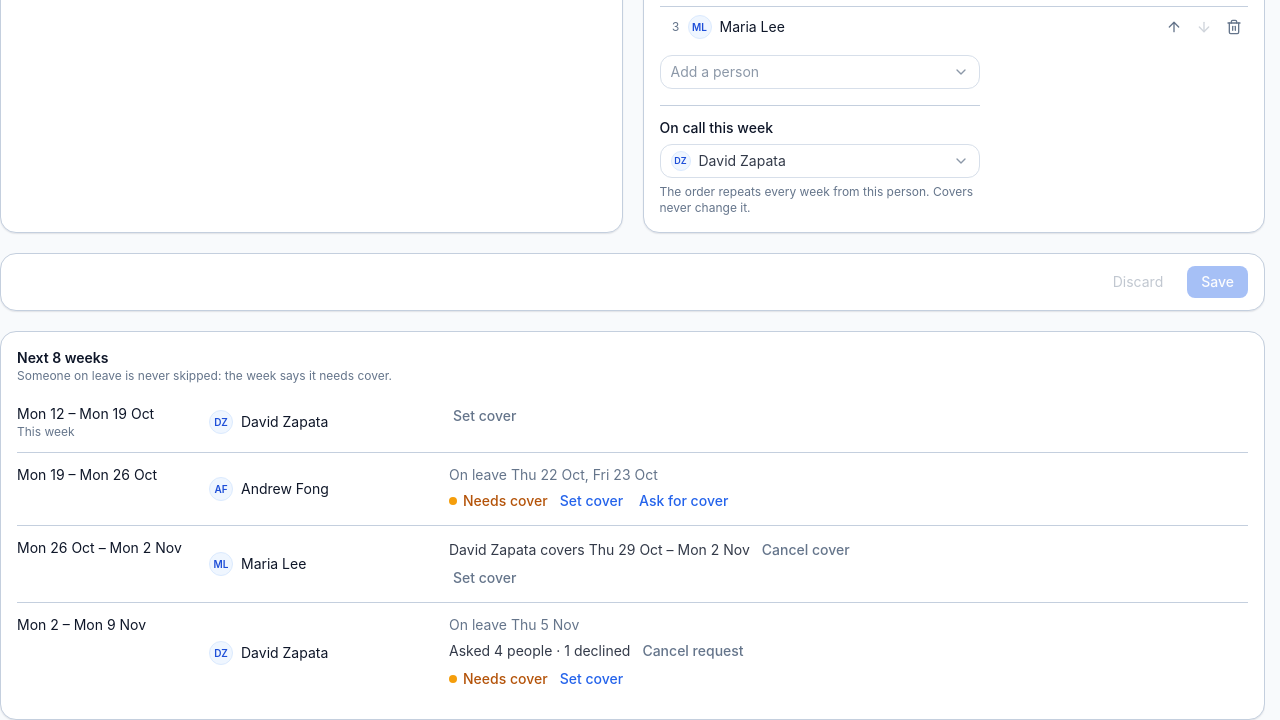
Test case: Urgent response: On-call › Set cover on a week with no leave starts with the whole week (the rest of it, once under way)
(page scrolled)
Click the button with aria-label "Set cover for Maria Lee": (485, 578) [449,566,520,590]
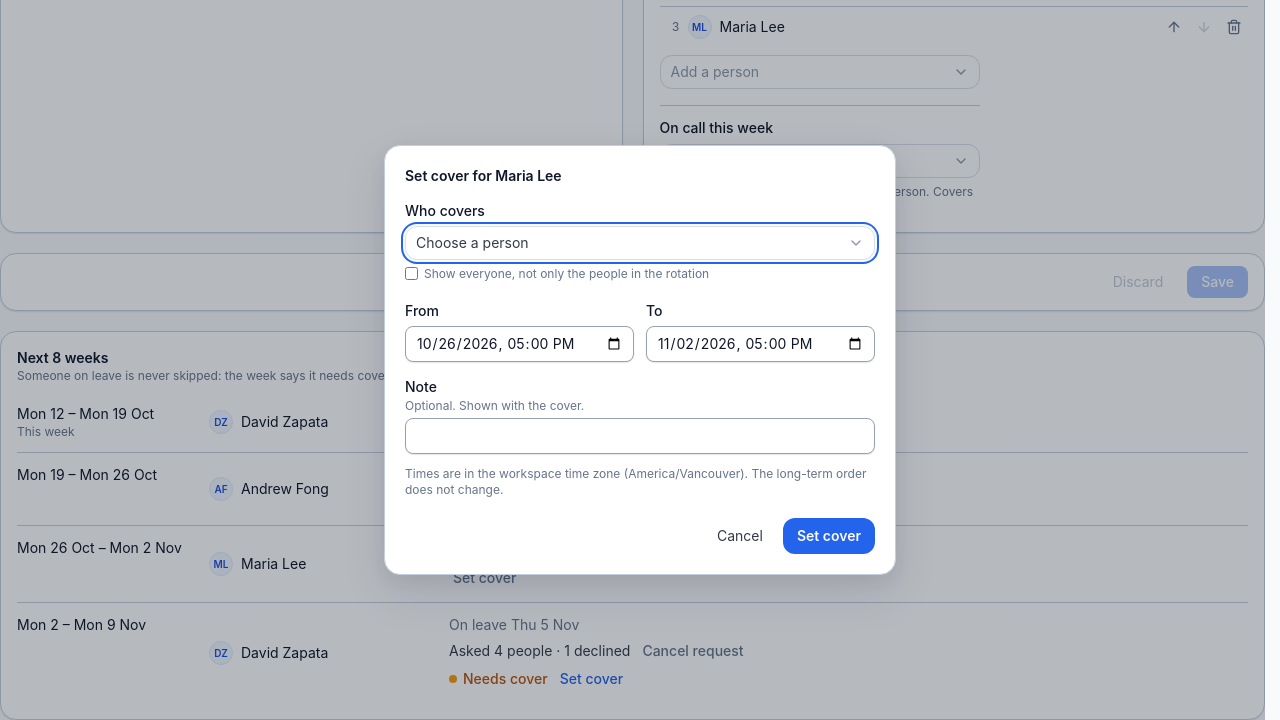
Expected: the field labelled "From" holds "2026-10-26T17:00", [405,326,634,362]
Expected: the field labelled "To" holds "2026-11-02T17:00", [646,326,875,362]
Click the button "Cancel": (740, 536) [705,518,775,554]
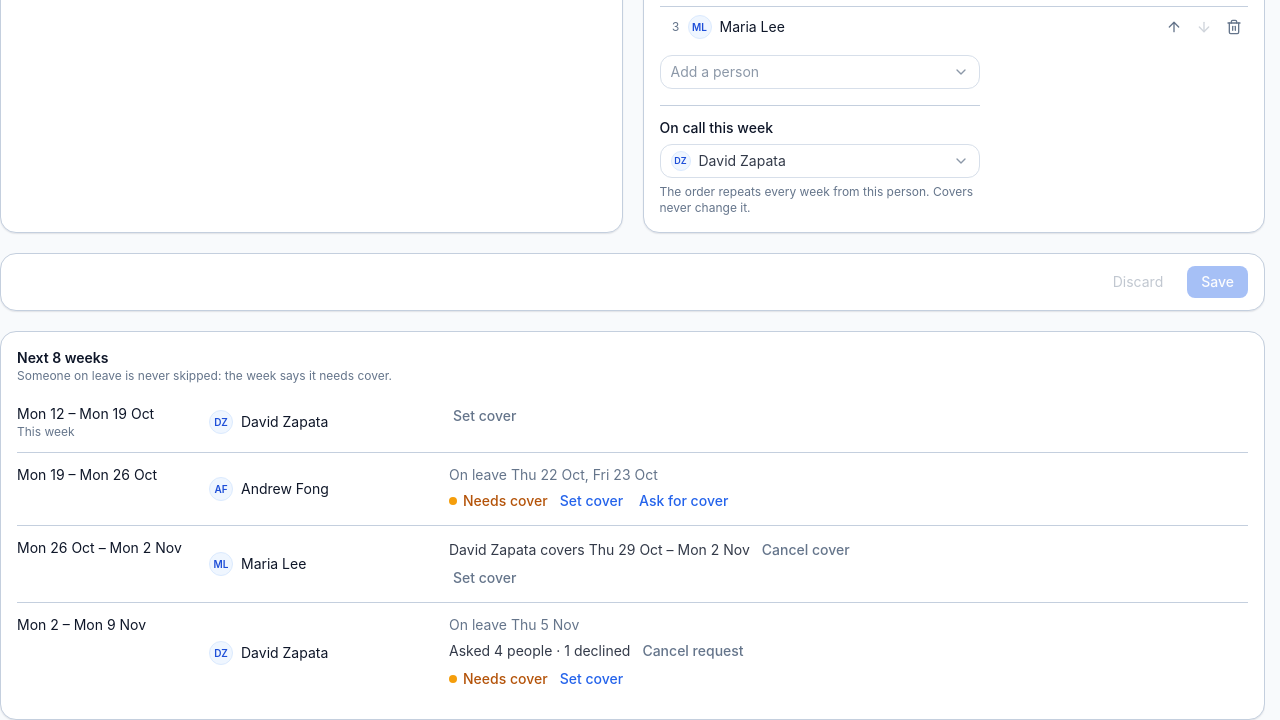
Click the button with aria-label "Set cover for David Zapata": (485, 416) [449,404,520,428]
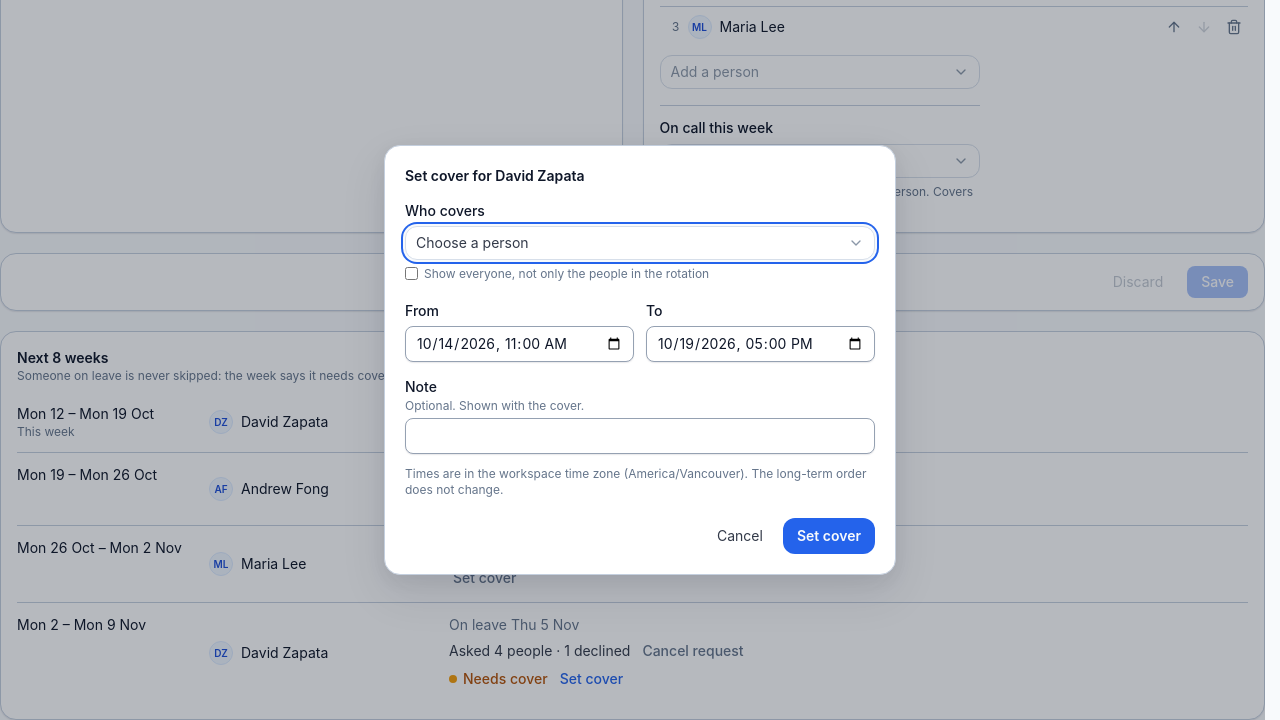
Expected: the field labelled "From" holds "2026-10-14T11:00", [405,326,634,362]
Expected: the field labelled "To" holds "2026-10-19T17:00", [646,326,875,362]
